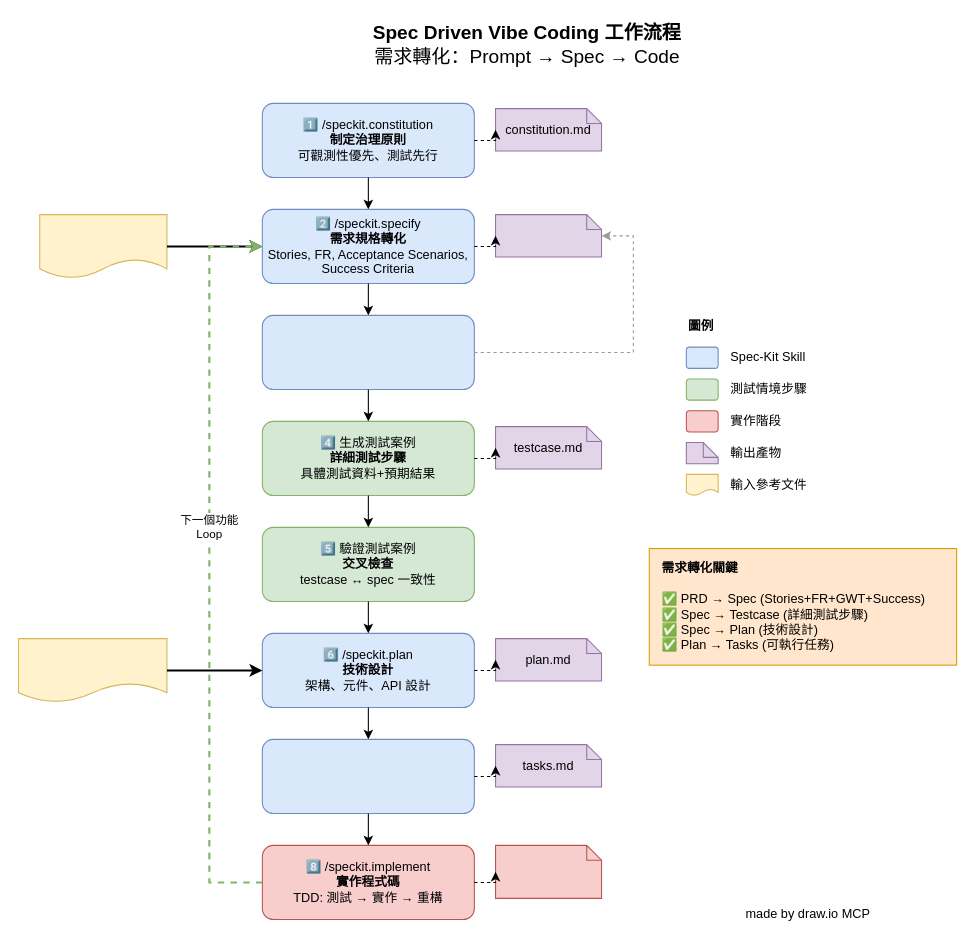
This 975x948 diagram has some shape labels left out. The box of each missing label's shape, as (x1, y1, x2, y2) in pixels:
3️⃣ /speckit.clarify 釐清模糊需求 消除歧義、補充細節: (261, 314, 474, 390)
7️⃣ /speckit.tasks 任務分解 可執行的開發任務清單: (261, 738, 474, 814)
spec.md: (494, 214, 602, 257)
src/ 程式碼: (494, 844, 602, 898)
📄 PRD.md (原始需求): (39, 214, 167, 278)
📄 tech-overview.md (技術棧): (17, 638, 167, 702)
